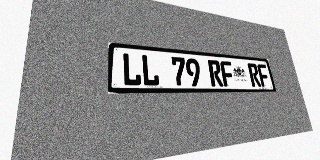7: (170, 57, 188, 86)
9: (185, 58, 202, 86)
F: (220, 61, 235, 87), (257, 64, 271, 87)
L: (122, 53, 142, 86), (141, 54, 160, 86)
R: (207, 60, 224, 87), (247, 63, 262, 87)
